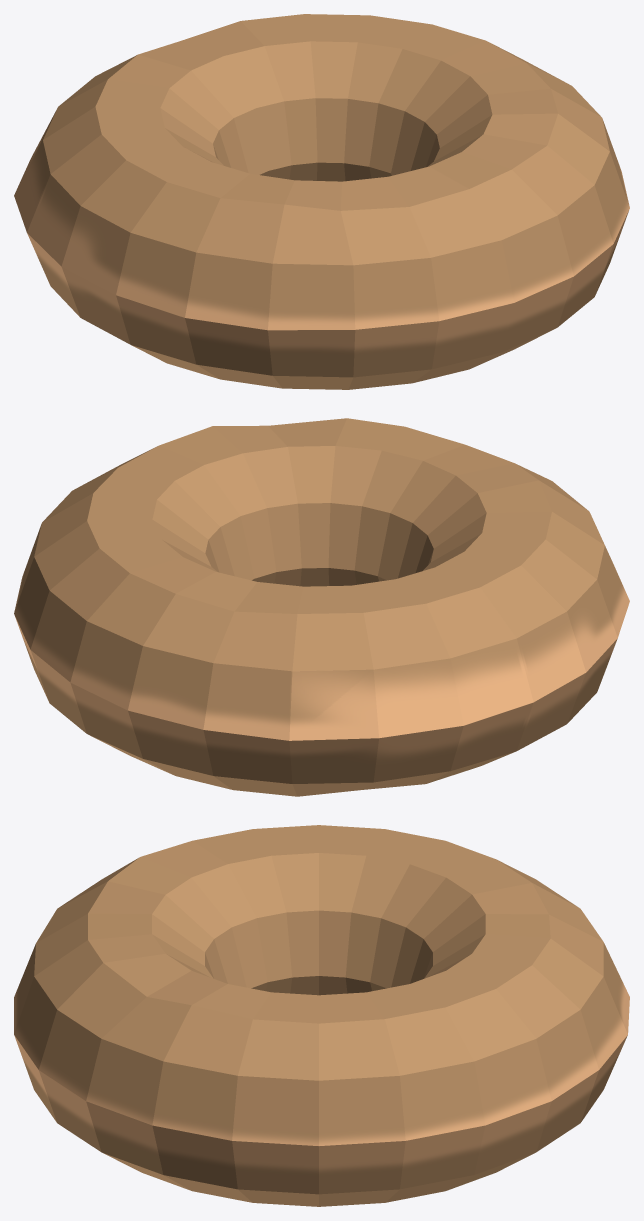
Rendered from lowpolydonut_dough.glb.
3 renders of one model, top to bottom at view 1: azimuth 30°, elevation 25°; view 2: azimuth 150°, elevation 25°; view 3: azimuth 270°, elevation 25°, orthographic.
Parts seen in each view (by area): view 1: Donut; view 2: Donut; view 3: Donut.
Part boxes in pixels (box(x1,y1,x2,y2)): Donut: box(14, 14, 629, 389); Donut: box(14, 418, 629, 796); Donut: box(14, 825, 629, 1206).
Bounding box in the file's own units: 0.0805 × 0.0268 × 0.0802.
2 materials, 1 textured.
